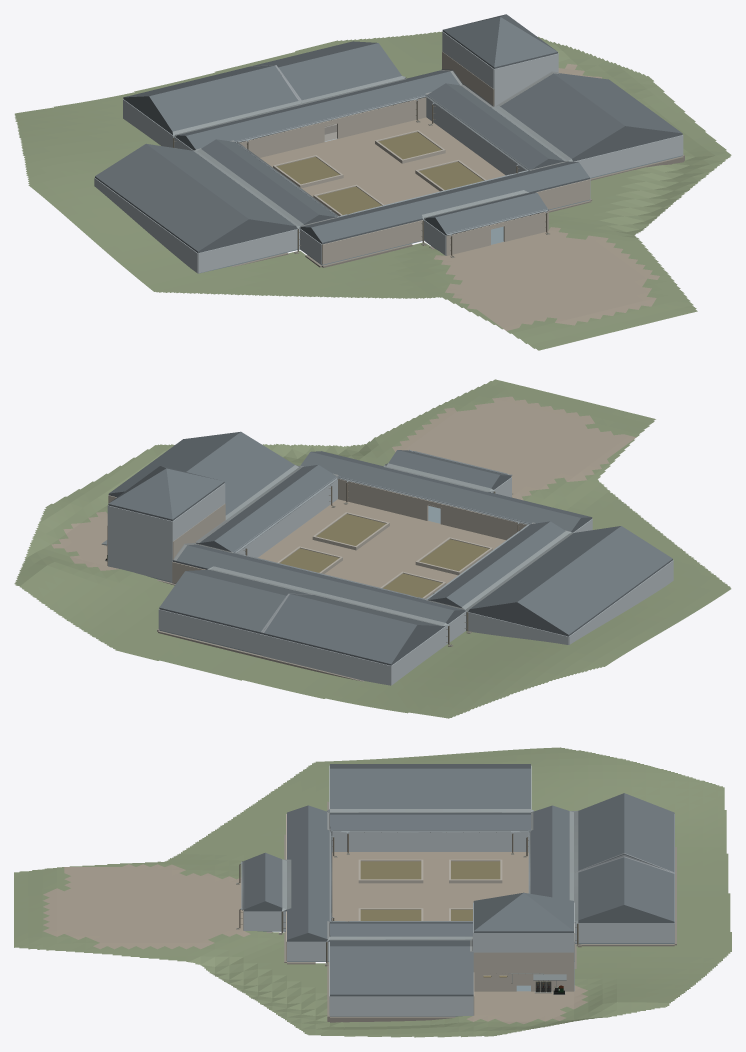
The model's file is monastery-with-service-power.glb.
The picture shows the model from 3 angles, top to bottom: view 1: azimuth 30°, elevation 25°; view 2: azimuth 150°, elevation 25°; view 3: azimuth 270°, elevation 25°; orthographic projection. The views are drawn at different scales.
Visible parts, largest first — view 1: WLD-10 saved ground, dormitory roof west, refectory roof west, archive roof south, south-cloister roof south, north-cloister roof south, vestry roof south, dormitory roof east, east-cloister roof west, refectory roof east, west-cloister roof west, Monastery shared gatehouse and south cloister wall inner gat (+32 smaller); view 2: WLD-10 saved ground, dormitory roof west, archive roof north, south-cloister roof north, vestry roof north, north-cloister roof north, refectory roof west, dormitory roof east, east-cloister roof west, Wall archive N, Wall tower-base N, west-cloister roof west (+33 smaller); view 3: WLD-10 saved ground, dormitory roof east, refectory roof east, Wall west E, west-cloister roof east, archive roof north, archive roof south, Wall refectory E, south-cloister roof north, south-cloister roof south, vestry roof north, vestry roof south (+27 smaller).
Boxes of the visible parts, x1=… form: WLD-10 saved ground: x1=14, y1=31, x2=731, y2=350; dormitory roof west: x1=95, y1=144, x2=248, y2=252; refectory roof west: x1=500, y1=73, x2=625, y2=159; archive roof south: x1=149, y1=65, x2=297, y2=132; south-cloister roof south: x1=311, y1=162, x2=589, y2=244; north-cloister roof south: x1=186, y1=71, x2=459, y2=149; vestry roof south: x1=278, y1=43, x2=401, y2=100; dormitory roof east: x1=146, y1=143, x2=296, y2=227; east-cloister roof west: x1=427, y1=83, x2=548, y2=170; refectory roof east: x1=554, y1=73, x2=682, y2=134; west-cloister roof west: x1=201, y1=139, x2=319, y2=225; Monastery shared gatehouse and south cloister wall inner gat: x1=322, y1=220, x2=422, y2=264; WLD-10 saved ground: x1=14, y1=379, x2=731, y2=718; dormitory roof west: x1=517, y1=526, x2=672, y2=636; archive roof north: x1=262, y1=594, x2=417, y2=665; south-cloister roof north: x1=300, y1=452, x2=580, y2=532; vestry roof north: x1=159, y1=571, x2=286, y2=633; north-cloister roof north: x1=172, y1=545, x2=454, y2=626; refectory roof west: x1=186, y1=432, x2=294, y2=515; dormitory roof east: x1=469, y1=526, x2=620, y2=610; east-cloister roof west: x1=214, y1=465, x2=337, y2=552; Wall archive N: x1=262, y1=634, x2=391, y2=685; Wall tower-base N: x1=108, y1=526, x2=172, y2=581; west-cloister roof west: x1=446, y1=521, x2=565, y2=608; WLD-10 saved ground: x1=14, y1=747, x2=731, y2=1037; dormitory roof east: x1=330, y1=768, x2=530, y2=808; refectory roof east: x1=330, y1=946, x2=473, y2=995; Wall west E: x1=332, y1=832, x2=528, y2=851; west-cloister roof east: x1=330, y1=814, x2=530, y2=832; archive roof north: x1=624, y1=793, x2=674, y2=872; archive roof south: x1=578, y1=793, x2=624, y2=870; Wall refectory E: x1=330, y1=996, x2=473, y2=1015; south-cloister roof north: x1=308, y1=805, x2=329, y2=941; south-cloister roof south: x1=287, y1=805, x2=308, y2=941; vestry roof north: x1=624, y1=857, x2=674, y2=922; vestry roof south: x1=578, y1=857, x2=624, y2=921.
Size of the model in its own units: 92 by 16 by 100.
56 materials, 29 textured.
